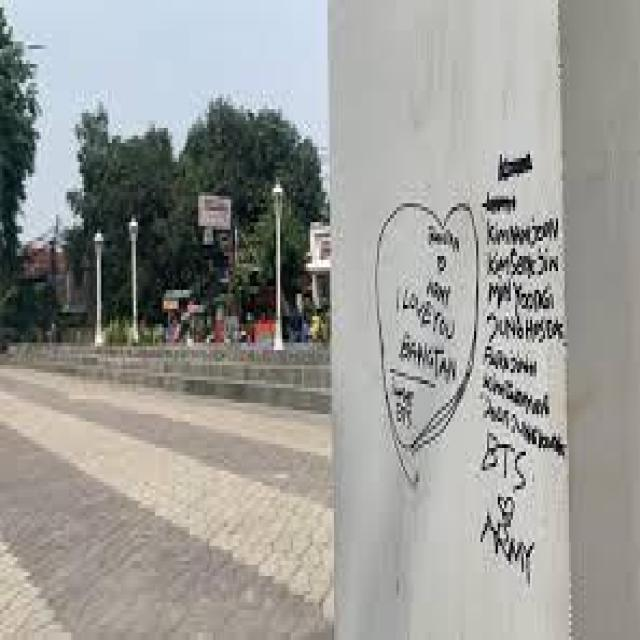nonspitting: (374, 150, 568, 582)
